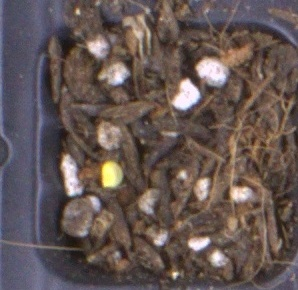chilli seed: (100, 160, 125, 189)
